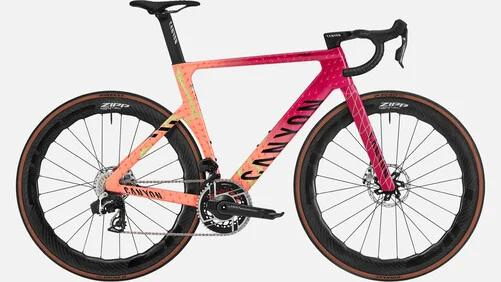bicycle: (1, 1, 499, 277)
